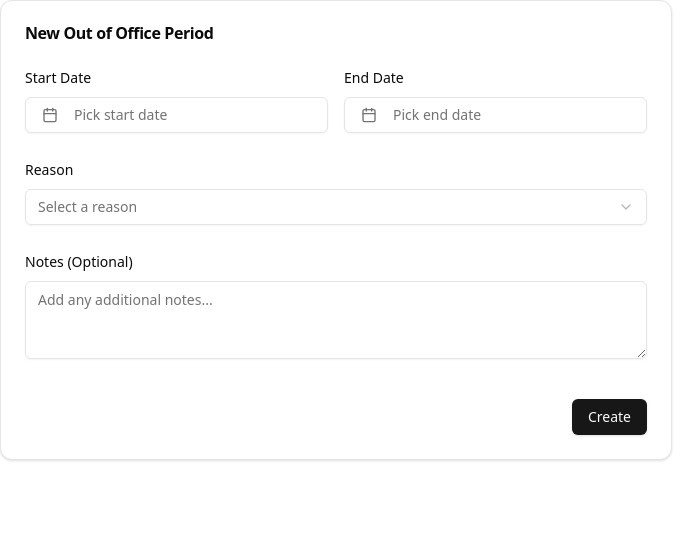
Test case: OutOfOfficeForm › Form Submission › handles submission errors gracefully
The image size is (689, 548).
Click the button "Create": (609, 417) [572,399,647,435]
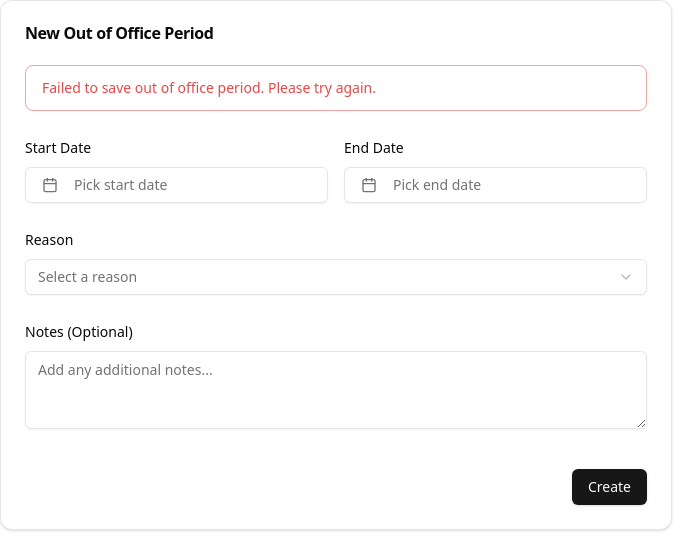
Result: the text "Failed to save out of office period. Please try again." is shown at [42,78,376,97]
